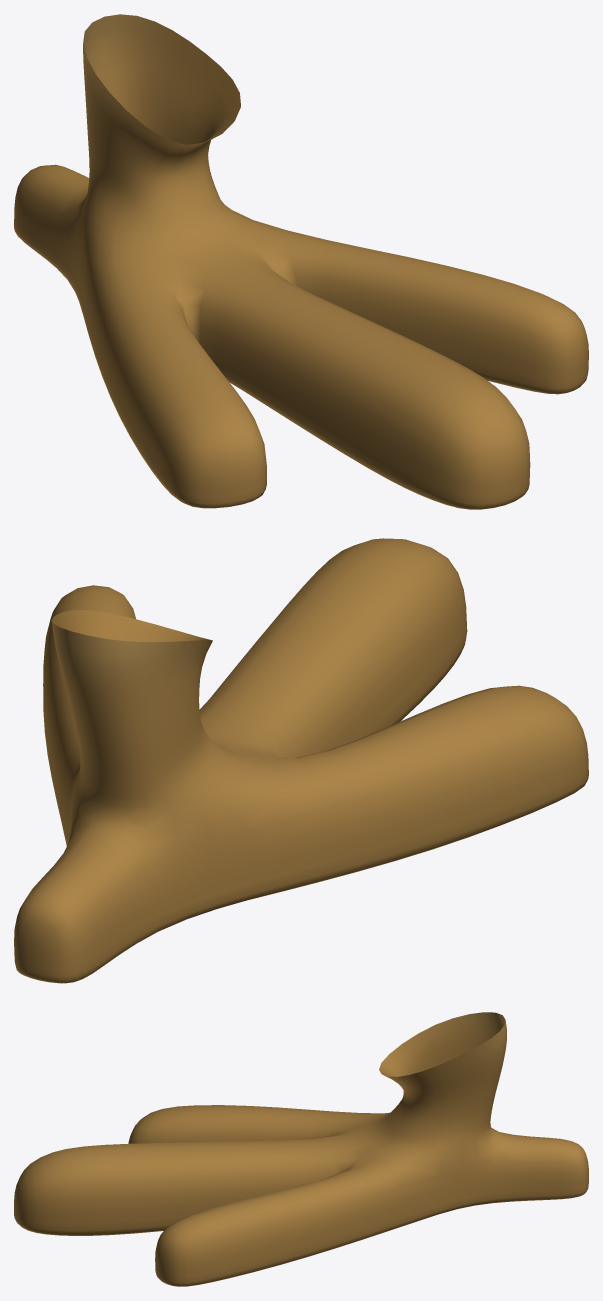
The model's file is CuckoPataR.obj.
3 views of the same model, one above another, from view 1: azimuth 30°, elevation 25°; view 2: azimuth 150°, elevation 25°; view 3: azimuth 270°, elevation 25° (orthographic). The views are drawn at different scales.
Parts seen in each view (by area): view 1: Cucco_body.002_Sphere.004; view 2: Cucco_body.002_Sphere.004; view 3: Cucco_body.002_Sphere.004.
Boxes of the visible parts, x1,y1,x2,y2 form: Cucco_body.002_Sphere.004: (14,14,588,509); Cucco_body.002_Sphere.004: (14,538,588,983); Cucco_body.002_Sphere.004: (14,1012,588,1286).
Bounding box in the file's own units: 0.9936 × 0.5993 × 1.63.
